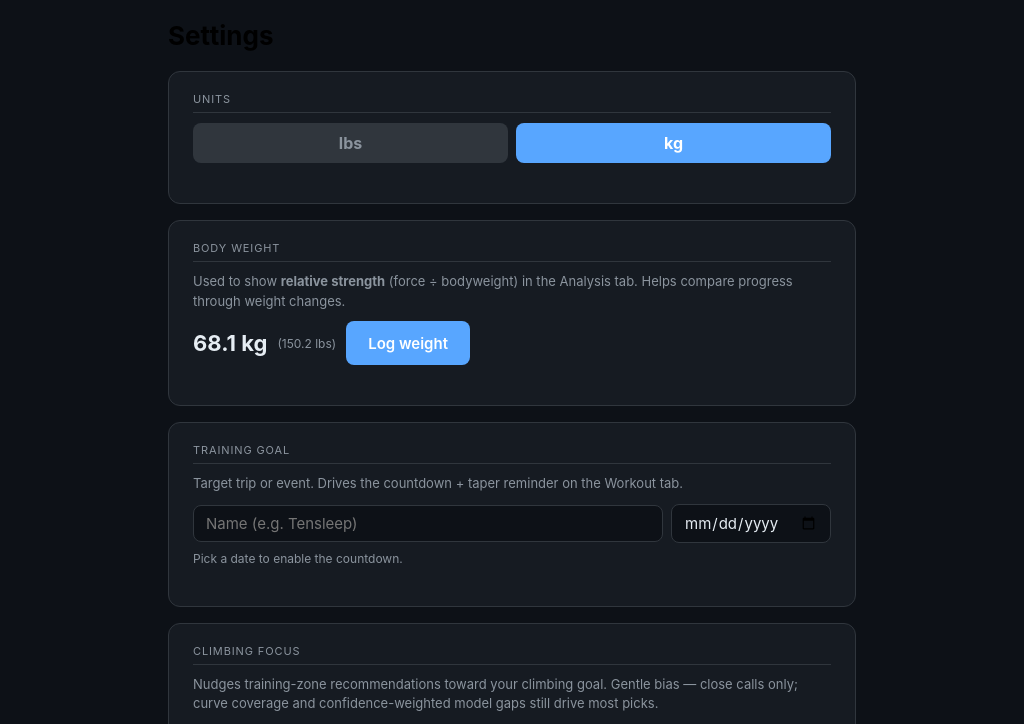
Test: Settings Cancel discards edits and an empty weight cannot be saved
The image size is (1024, 724).
Step 1. Click the button "Log weight" → x=408, y=343, box [346,321,470,365]
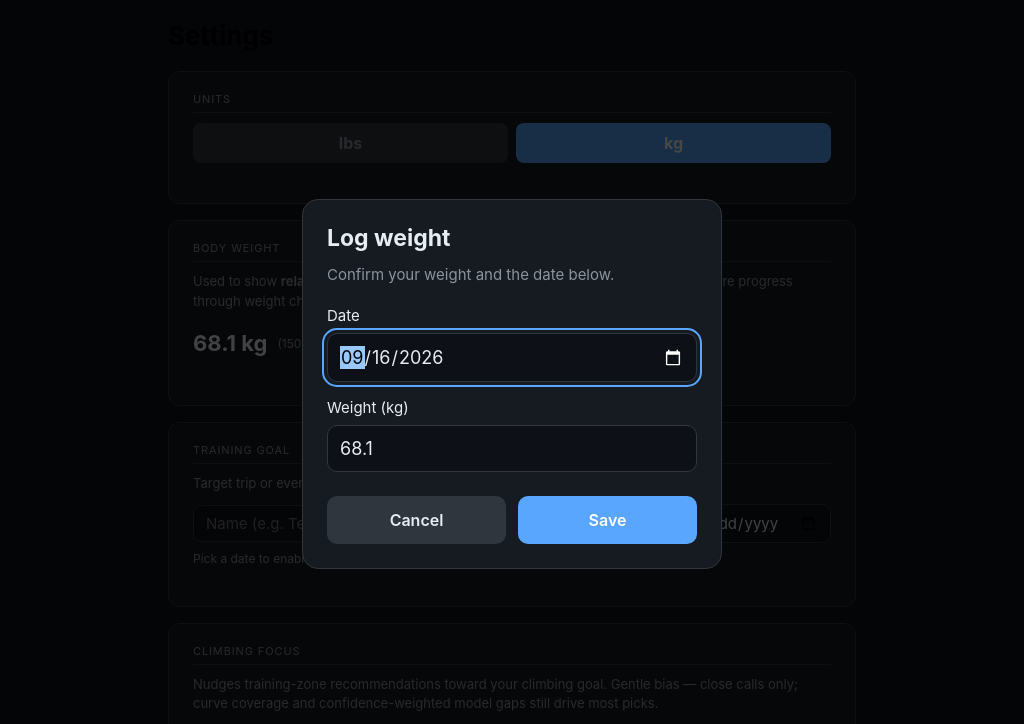
Step 2. Clear the number field labelled "Weight (kg)" → x=512, y=449, box [327,425,697,472]
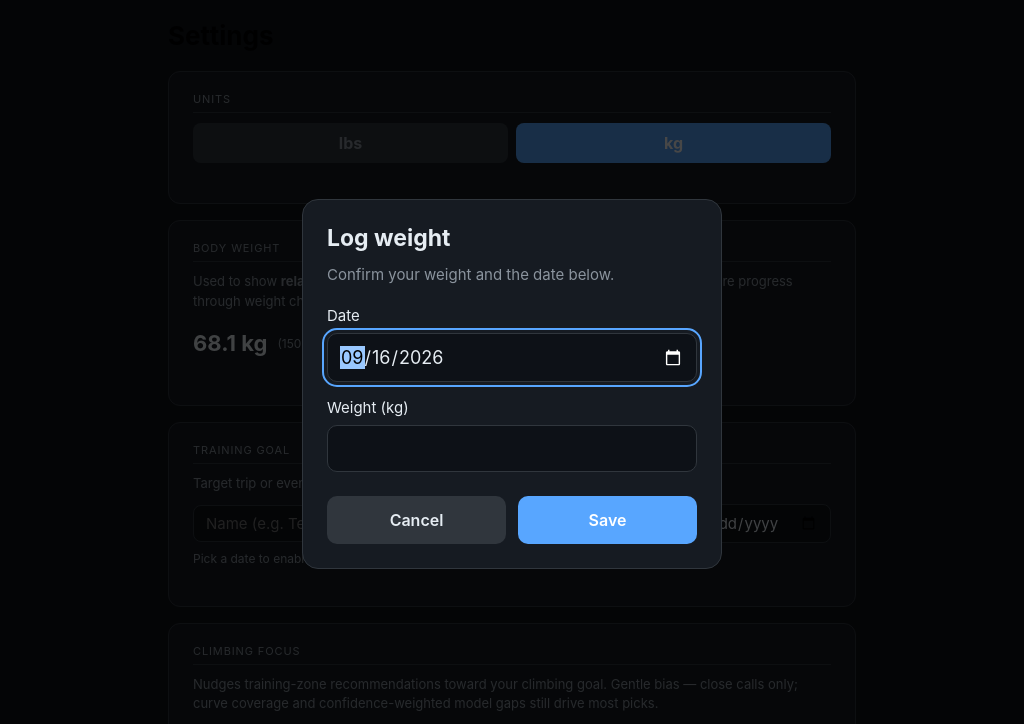
Step 3. Click the button "Save" → x=608, y=520, box [518,496,697,544]
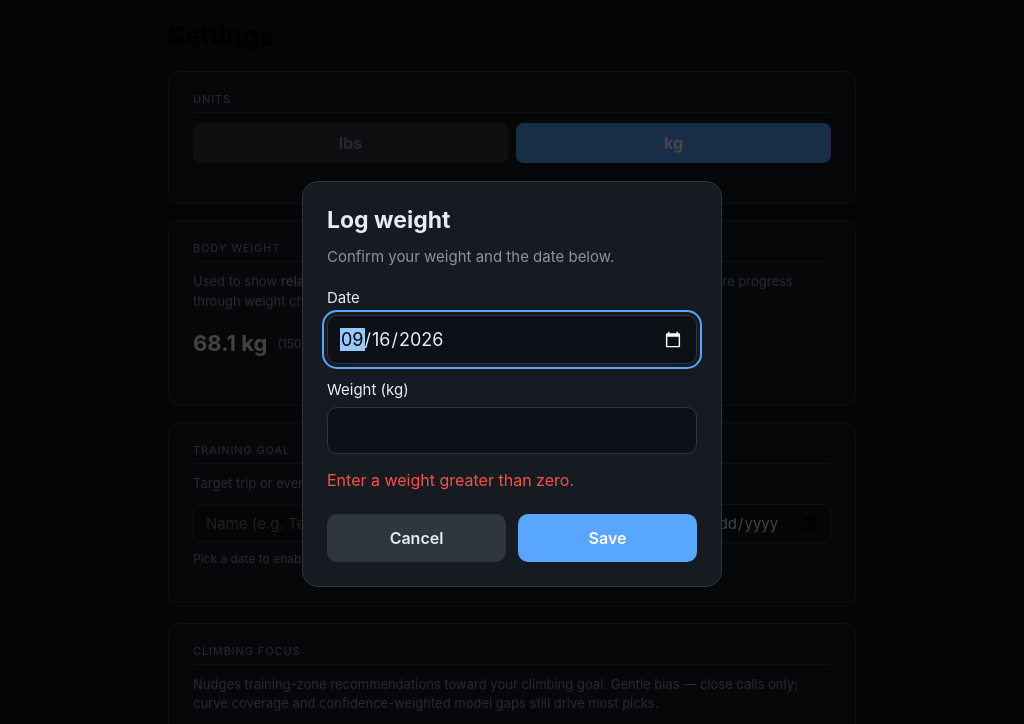
Expected: the message shows "greater than zero", [327,470,574,490]
Step 4. Type "75" into the number field labelled "Weight (kg)" → x=512, y=431, box [327,407,697,454]
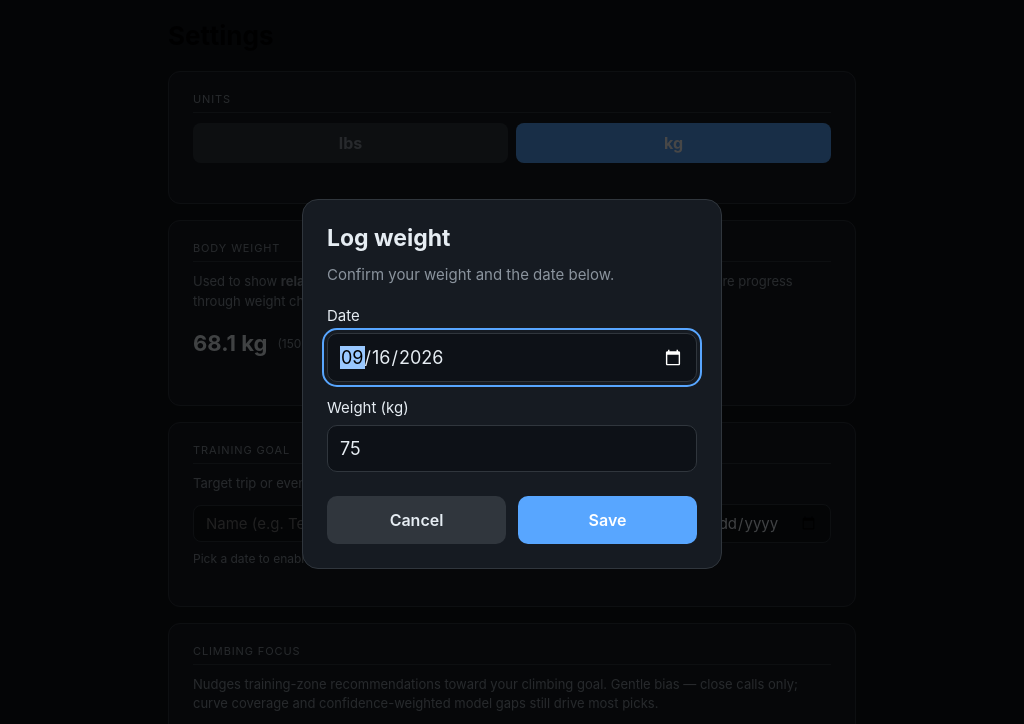
Step 5. Click the button "Cancel" → x=416, y=520, box [327,496,506,544]
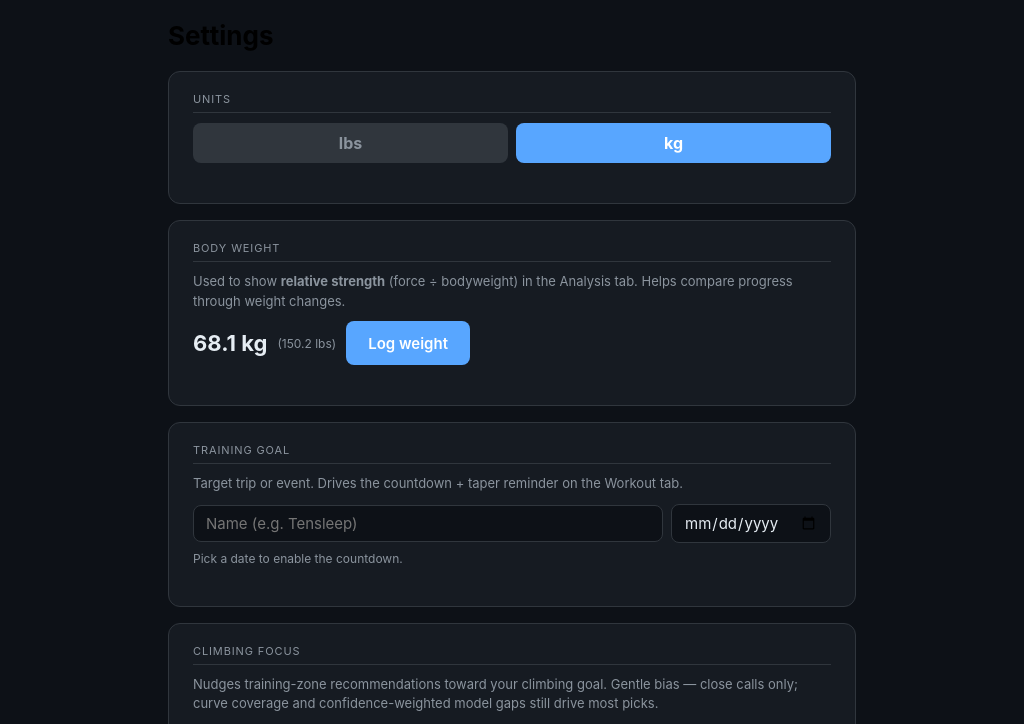
Expected: the dialog is gone
Step 6. Click the button "Log weight" → x=408, y=343, box [346,321,470,365]
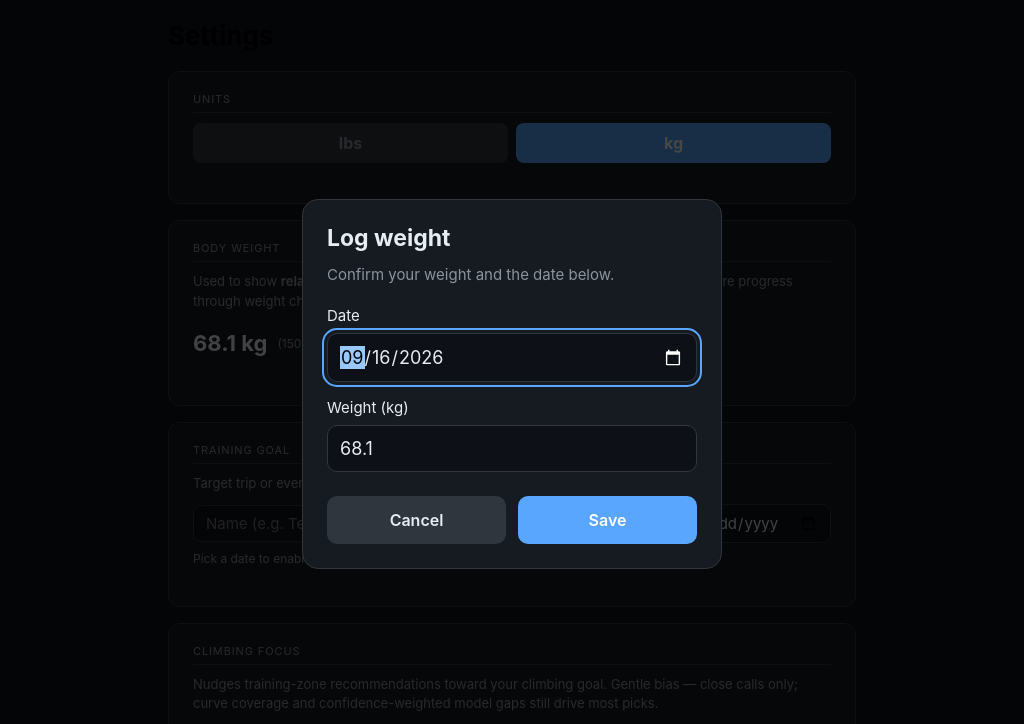
Expected: the number field labelled "Weight (kg)" holds "68.1", [327,425,697,472]
